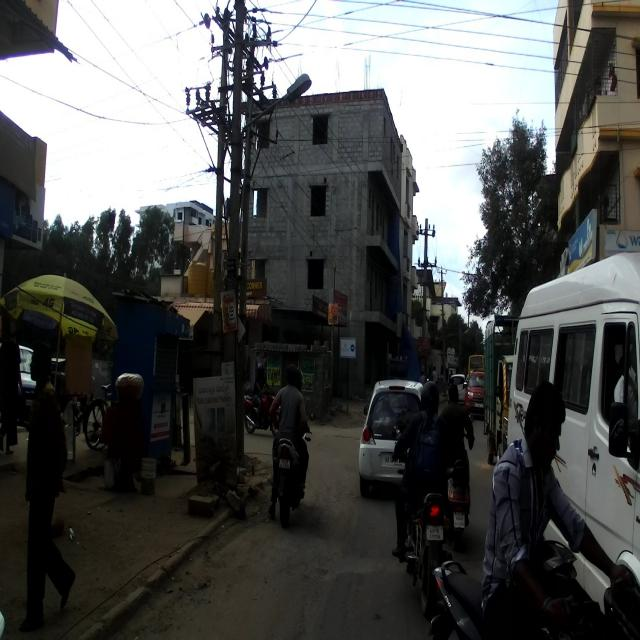car: (357, 377, 423, 498), (463, 368, 486, 415)
mini-bus: (506, 251, 639, 636)
motorcycle: (427, 541, 637, 639), (389, 425, 448, 620), (270, 410, 316, 530), (239, 380, 286, 437)
scooter: (441, 413, 475, 554)
